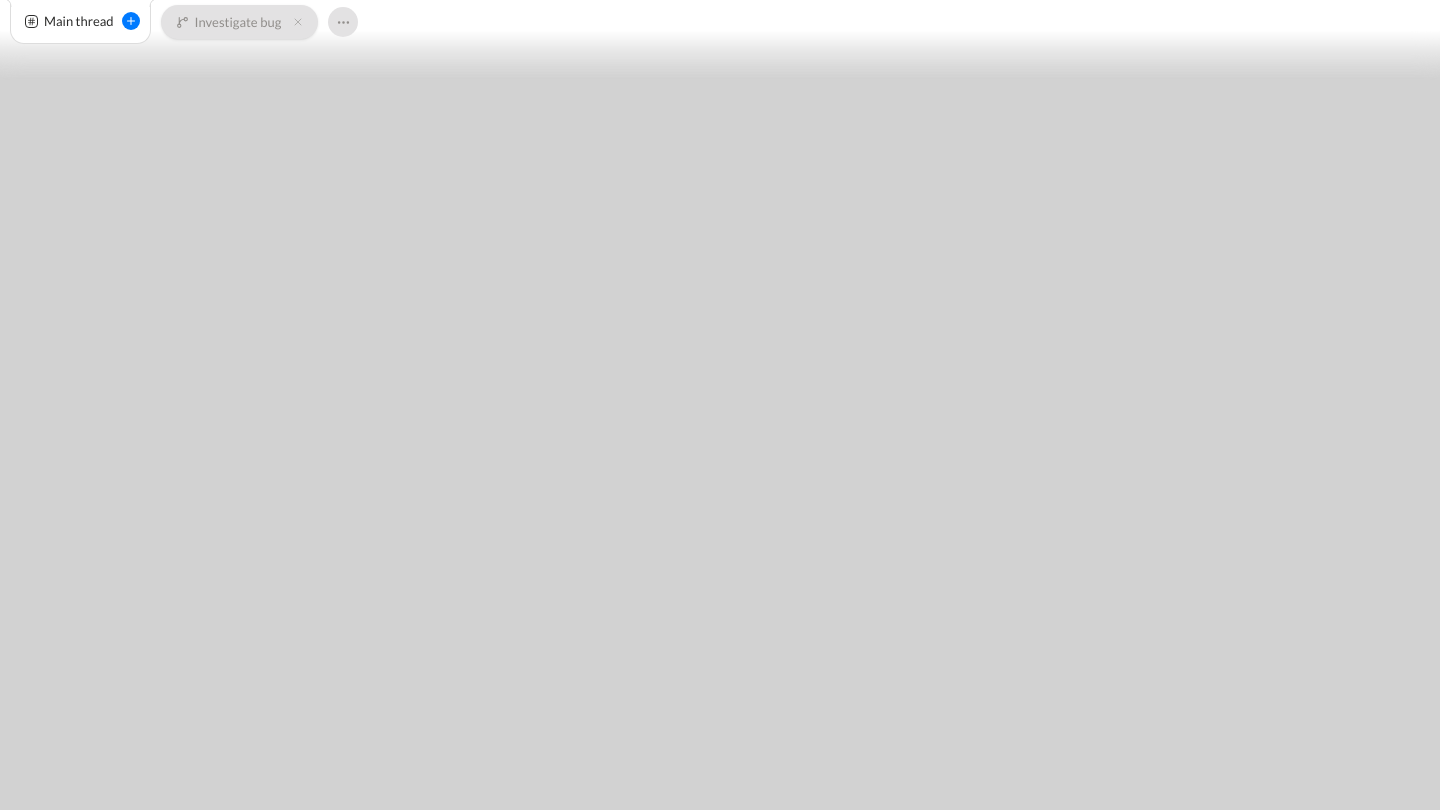
it: ThreadTabStrip › More pill — overflow panel › is closed by default and opens on click
Step 1. Click the button with test id "thread-tab-more" → (343, 22), box [328, 7, 358, 37]
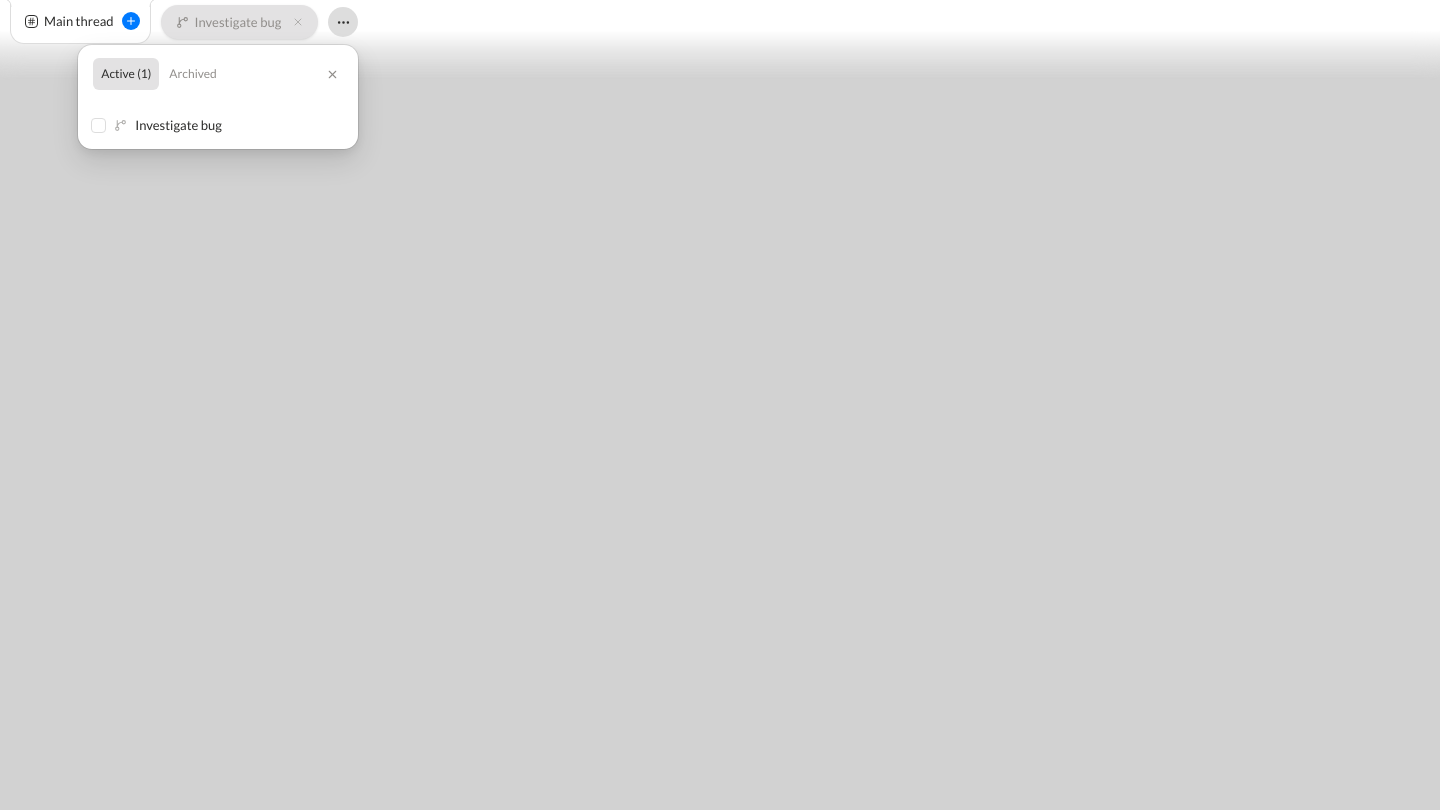
Expected: the dialog with test id "thread-overflow-panel" is shown, [78, 45, 358, 149]
